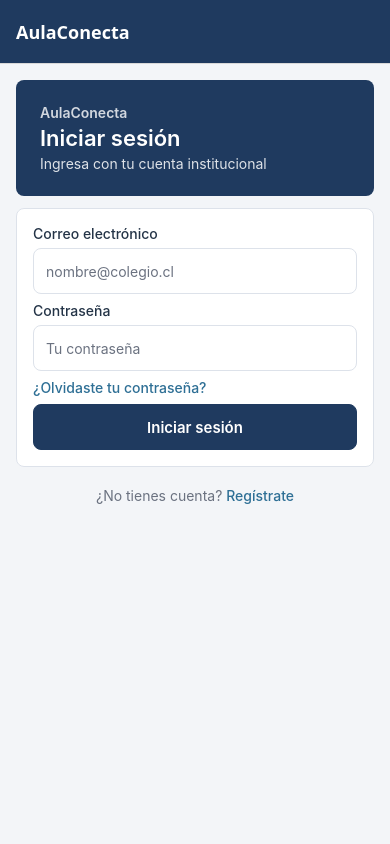
Test: App › muestra el ingreso cuando no hay sesión
Expected: the 1st text "Iniciar sesión" is shown, x1=40 y1=125 x2=181 y2=151
What coordinates should you click on to do the following:
click the text "Regístrate"
I would click on:
 (260, 496)
Its box is x1=226 y1=487 x2=294 y2=504.
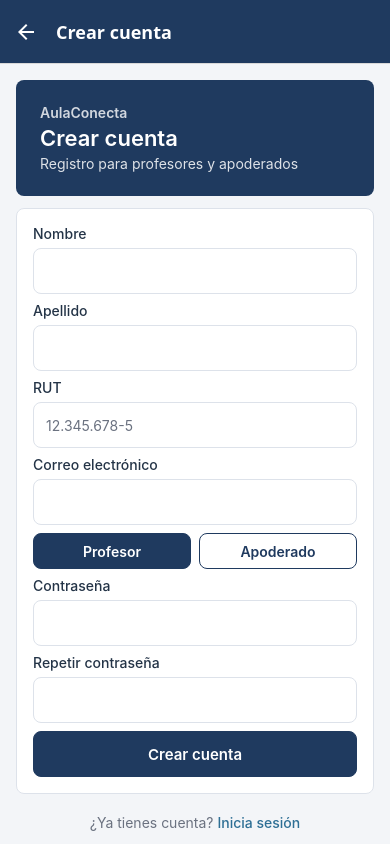
Now the heading "Crear cuenta" is shown, box x1=56 y1=20 x2=172 y2=44
